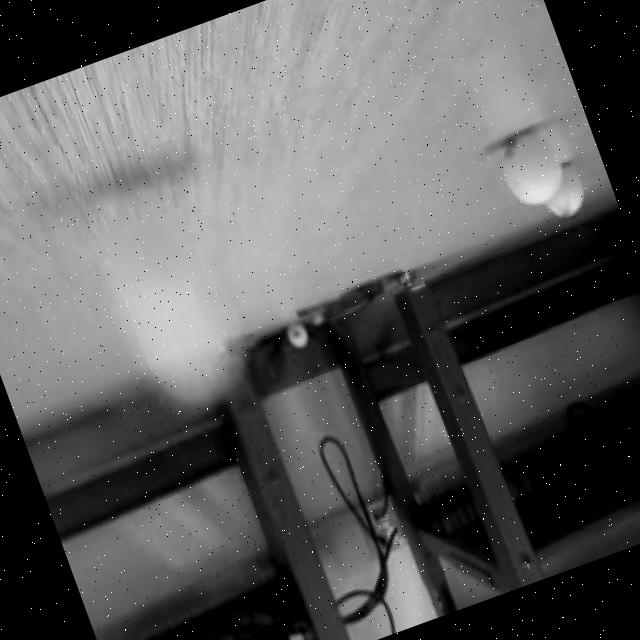ping-pong-ball: (58, 178, 263, 404), (488, 124, 565, 211), (533, 156, 593, 227), (284, 318, 314, 354)
